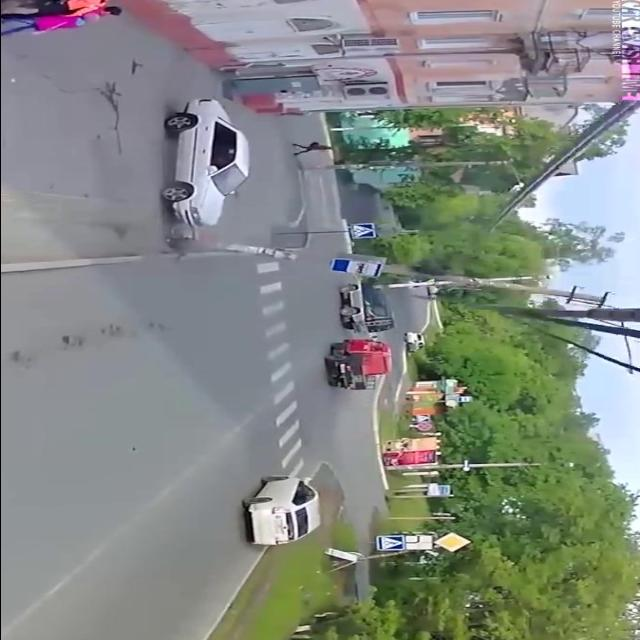accident: (138, 91, 271, 266)
non_accident: (313, 280, 403, 393)
